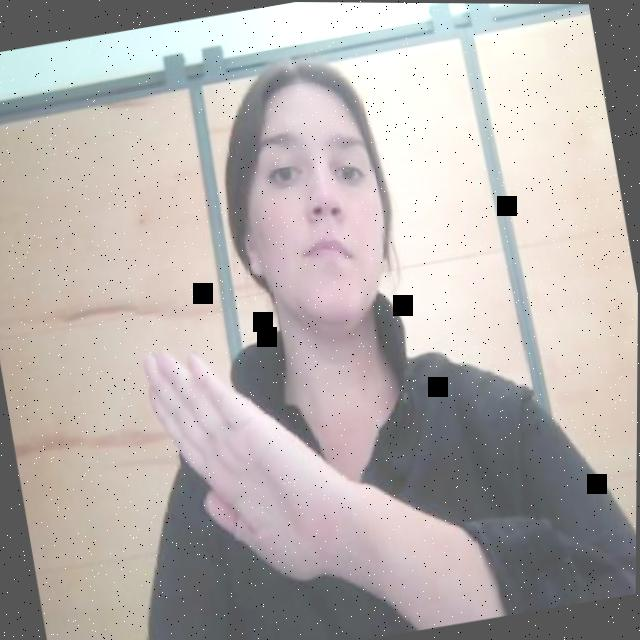Paper: (125, 316, 372, 607)
